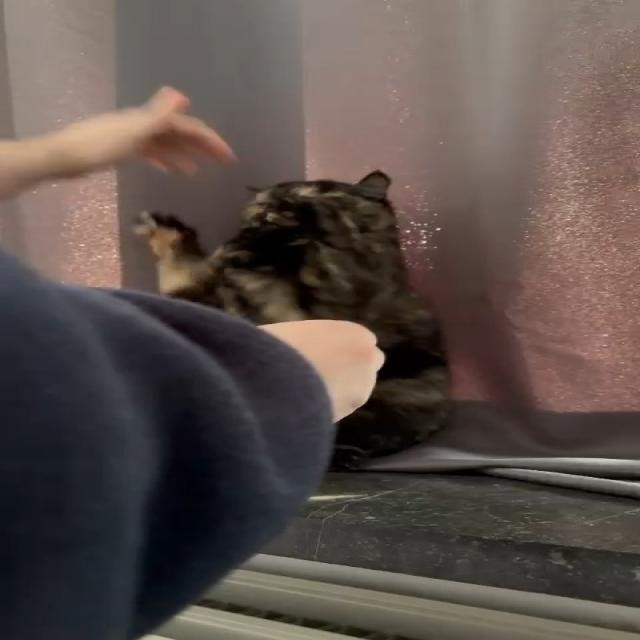authorized: (131, 168, 452, 470)
